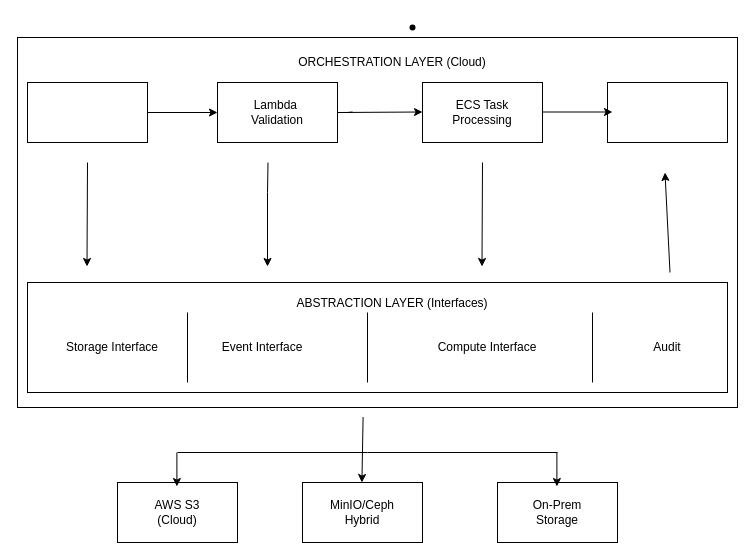
Some shapes in this 755 by 560 pixel diagram are drawn without their labels. The centre of each missing label's shape, as x and y in pixels:
"Dynamo DB Audit Trail" goes at [667,112].
"S3 Event Notification" goes at [87,112].
